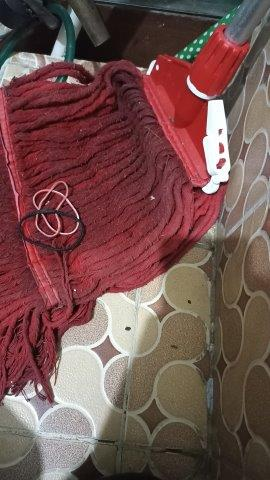karet: (18, 180, 85, 252)
